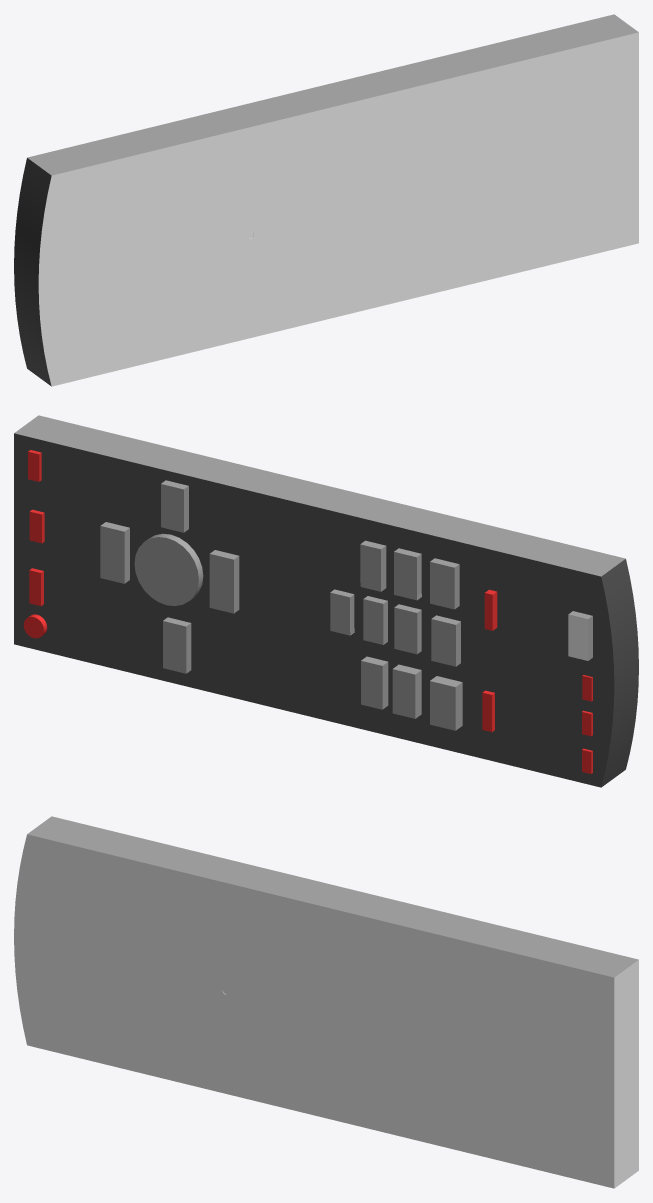
The model's file is Remote_control_4.fbx.
3 views of the same model, one above another, from view 1: azimuth 30°, elevation 25°; view 2: azimuth 150°, elevation 25°; view 3: azimuth 330°, elevation 25° (orthographic).
Visible parts, largest first — view 1: Model; view 2: Model, OnOff; view 3: Model.
Part boxes in pixels (box(x1,y1,x2,y2)): Model: box(14, 14, 638, 386); Model: box(14, 415, 638, 787); OnOff: box(568, 611, 592, 660); Model: box(14, 816, 638, 1188).
Size of the model in its own units: 2484 by 834 by 226.
